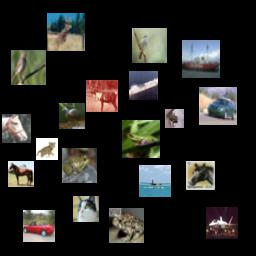airplane: (139, 165, 171, 197), (206, 207, 238, 239)
automobile: (199, 87, 237, 125), (23, 210, 55, 242)
bird: (132, 28, 167, 63), (11, 50, 46, 85), (59, 103, 85, 129)
cat: (73, 196, 99, 222), (36, 138, 58, 160)
deer: (47, 13, 85, 51), (86, 80, 118, 112)
frog: (122, 120, 160, 158), (109, 208, 144, 243), (62, 148, 97, 183), (165, 109, 184, 128)
ship: (182, 40, 220, 78), (129, 71, 158, 100)
